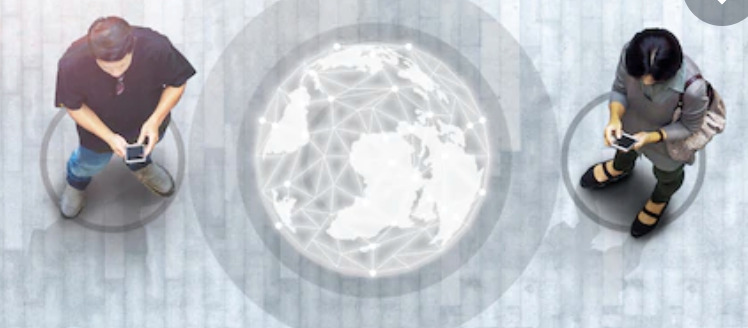Good: (36, 18, 722, 248)
